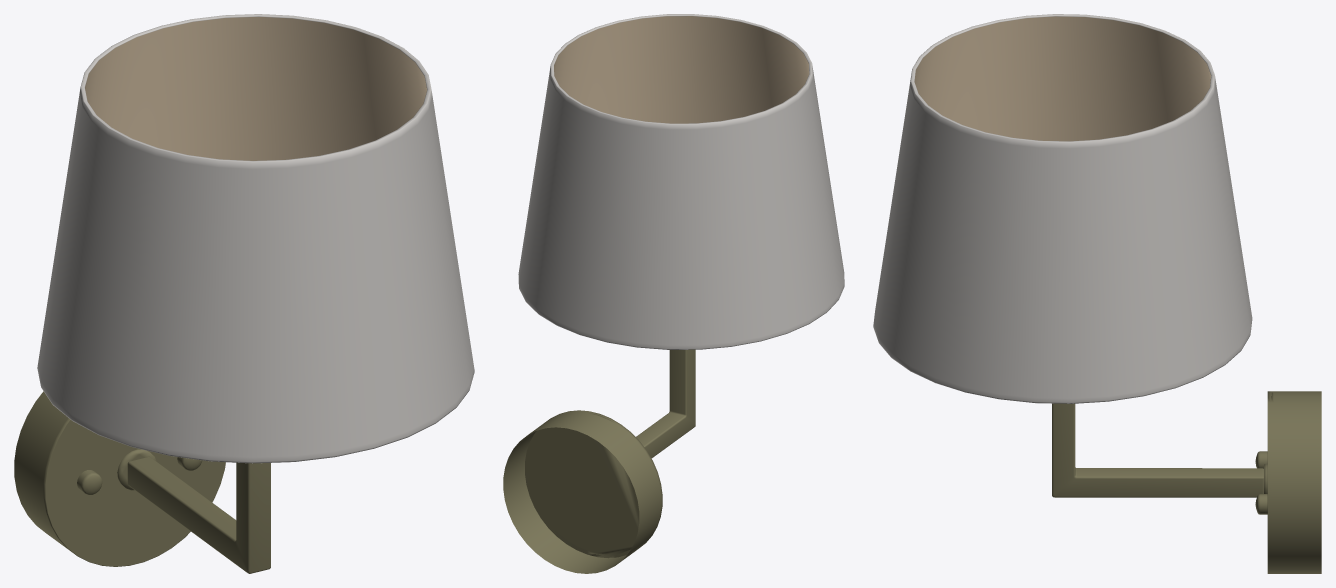
Rendered from LampadaParete.fbx.
The picture shows the model from 3 angles, left to right: view 1: azimuth 30°, elevation 25°; view 2: azimuth 150°, elevation 25°; view 3: azimuth 270°, elevation 25°; orthographic projection. The views are drawn at different scales.
Parts seen in each view (by area): view 1: LampadaParete; view 2: LampadaParete; view 3: LampadaParete.
Part boxes in pixels (bbox=[...]): LampadaParete: bbox=[14, 14, 474, 573]; LampadaParete: bbox=[503, 14, 844, 573]; LampadaParete: bbox=[873, 14, 1321, 573].
Size of the model in its own units: 38.66 by 54.89 by 45.72.
